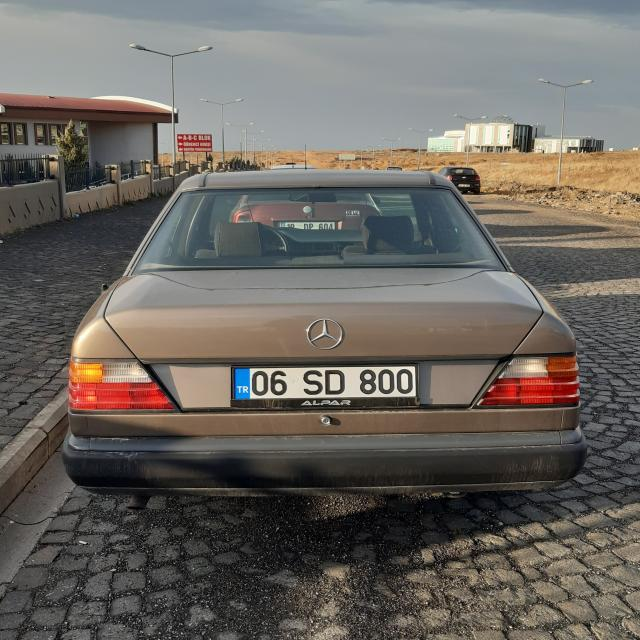license_plate: (233, 366, 417, 398)
